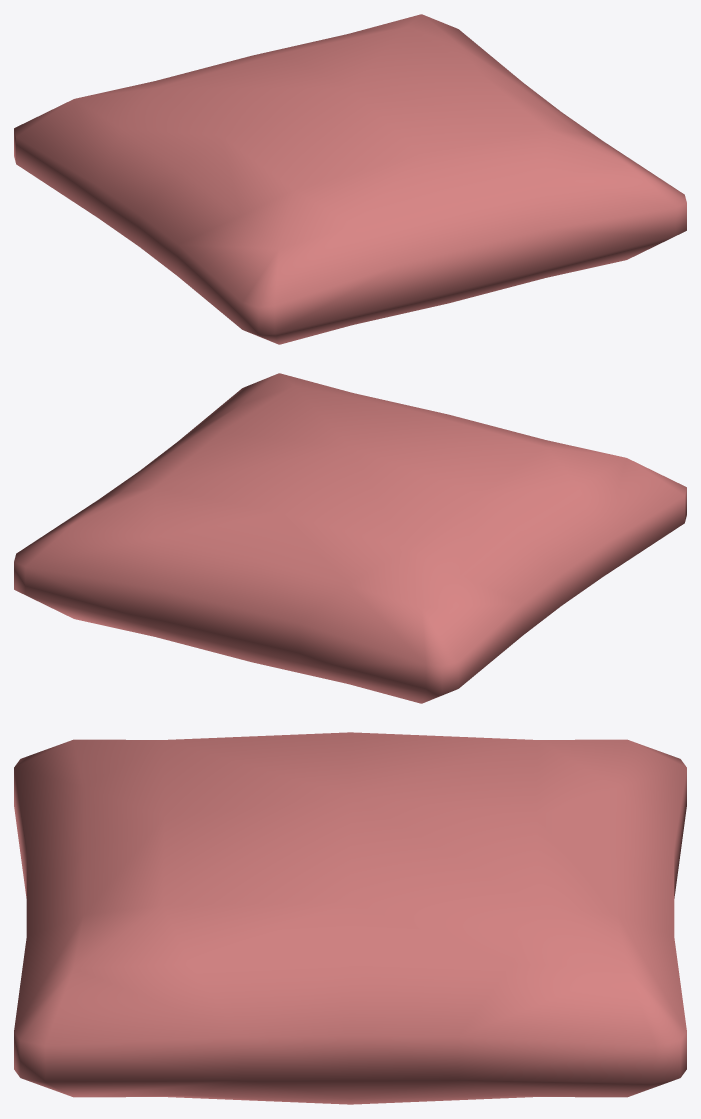
File: toybox_beanbag_red_01_prefab.fbx
The picture shows the model from 3 angles, top to bottom: view 1: azimuth 30°, elevation 25°; view 2: azimuth 150°, elevation 25°; view 3: azimuth 270°, elevation 25°; orthographic projection. The views are drawn at different scales.
Visible parts, largest first — view 1: bean_bag_red; view 2: bean_bag_red; view 3: bean_bag_red.
Boxes of the visible parts, box(x1,y1,x2,y2) form: bean_bag_red: box(14, 14, 686, 344); bean_bag_red: box(14, 373, 686, 703); bean_bag_red: box(14, 732, 686, 1104).
Size of the model in its own units: 9.49 by 3.71 by 9.27.
